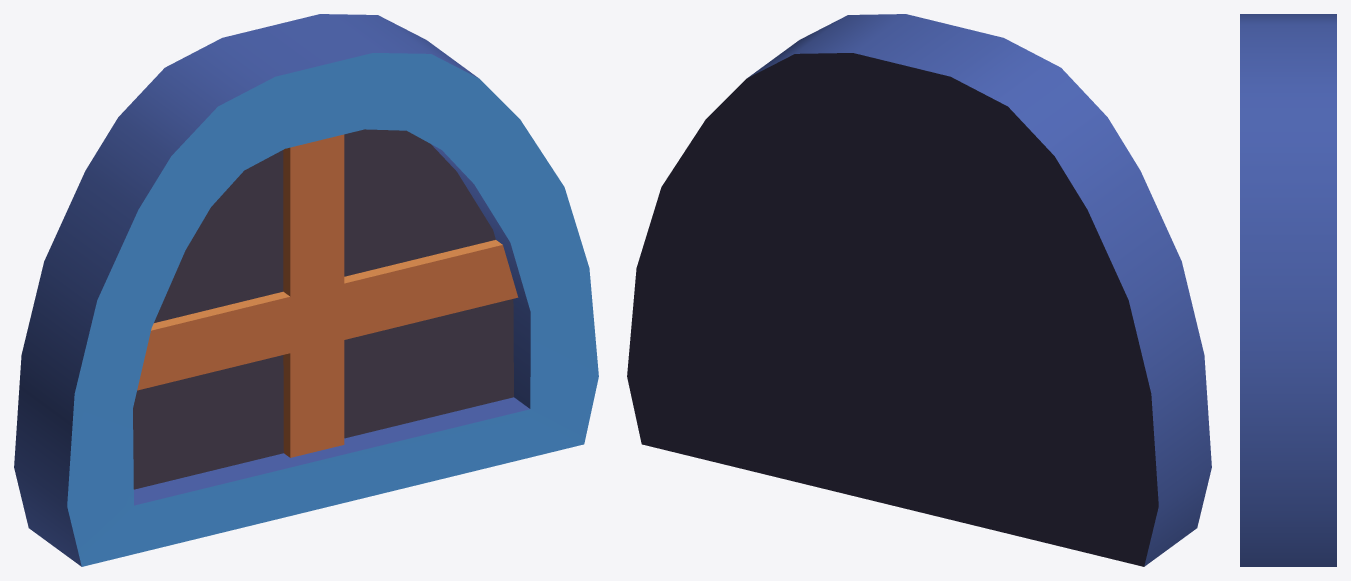
The model's file is Window03_Blue_Wood.glb.
3 renders of one model, left to right at view 1: azimuth 30°, elevation 25°; view 2: azimuth 150°, elevation 25°; view 3: azimuth 270°, elevation 25°, orthographic. The views are drawn at different scales.
Parts seen in each view (by area): view 1: Window03_Blue_Wood; view 2: Window03_Blue_Wood; view 3: Window03_Blue_Wood.
Part boxes in pixels (x1=…): Window03_Blue_Wood: x1=14, y1=14, x2=598, y2=566; Window03_Blue_Wood: x1=627, y1=14, x2=1211, y2=566; Window03_Blue_Wood: x1=1240, y1=14, x2=1336, y2=566.
Bounding box in the file's own units: 0.9047 × 0.7203 × 0.1565.
1 material, 1 textured.
